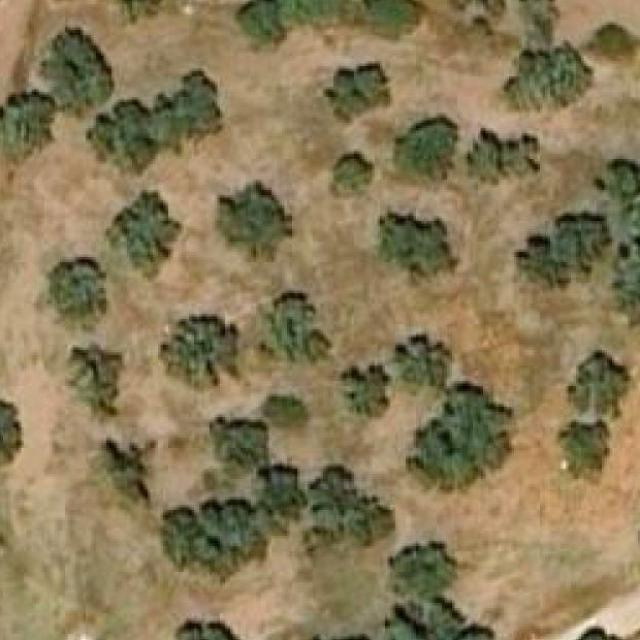Tree: (406, 381, 514, 489), (161, 494, 269, 575), (514, 211, 615, 291), (496, 40, 594, 113), (104, 193, 182, 281), (158, 311, 240, 391), (380, 205, 460, 286), (215, 180, 292, 262), (308, 467, 388, 544), (42, 27, 115, 107), (86, 100, 159, 174), (161, 69, 228, 145), (388, 594, 496, 640), (266, 291, 332, 363), (316, 63, 391, 123), (91, 438, 153, 510), (465, 128, 541, 185), (385, 536, 455, 596), (568, 350, 630, 417), (396, 116, 458, 180), (0, 92, 56, 159), (46, 257, 106, 319), (559, 420, 610, 485), (210, 417, 266, 474), (258, 467, 305, 532), (399, 329, 450, 384), (70, 344, 115, 404), (339, 365, 390, 417), (361, 0, 421, 40), (612, 265, 640, 348), (331, 147, 376, 198), (243, 0, 288, 43), (0, 394, 24, 472), (584, 25, 639, 59), (176, 618, 249, 640), (264, 394, 311, 426), (516, 0, 561, 27), (560, 628, 630, 640), (450, 0, 507, 14), (113, 0, 163, 14)
